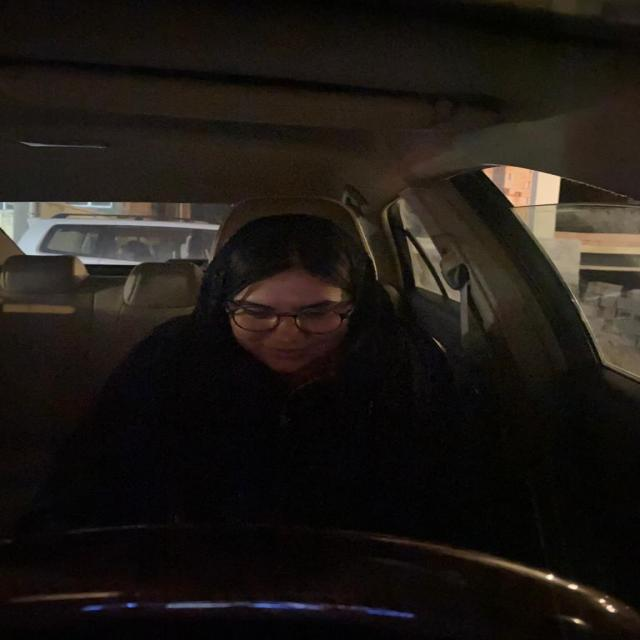person: (201, 211, 378, 377)
